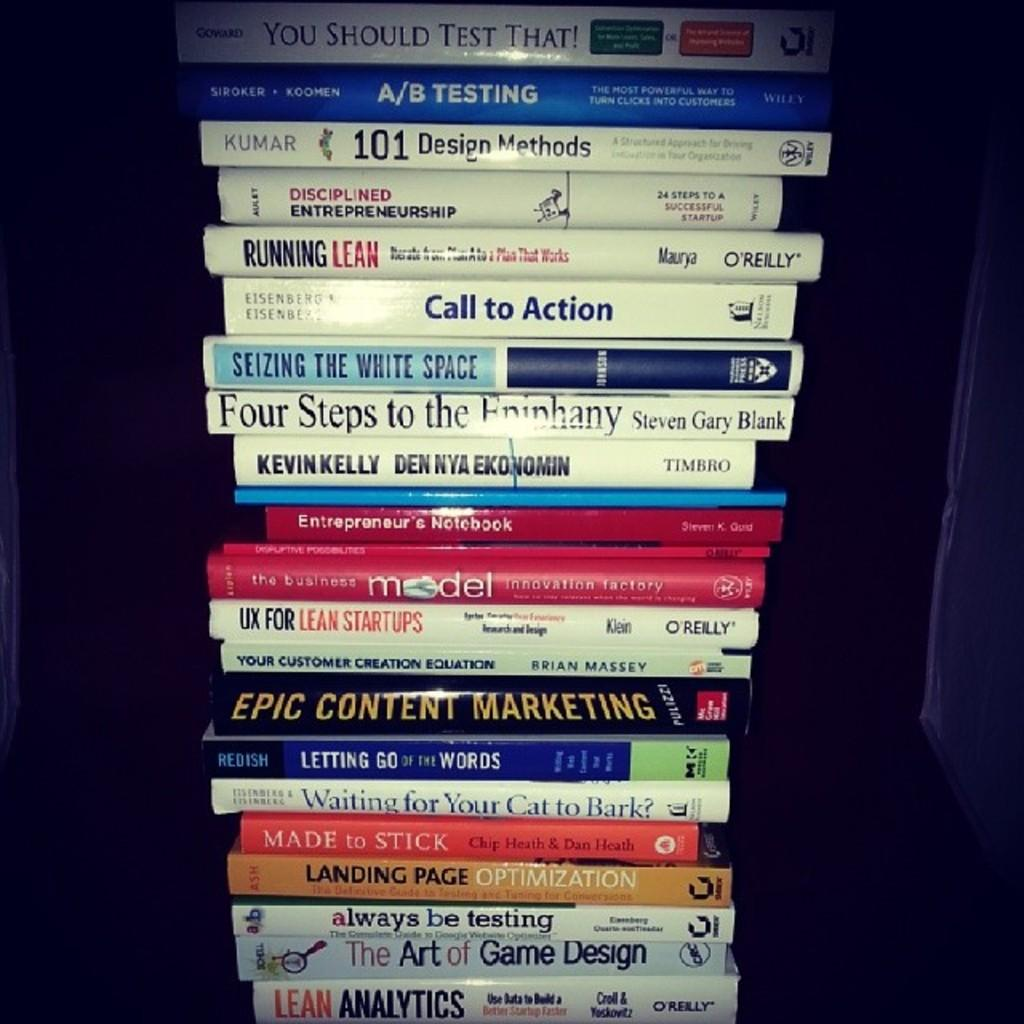Book: (219, 213, 832, 970), (178, 0, 832, 61), (181, 123, 834, 178), (210, 174, 787, 229), (194, 74, 827, 112), (254, 979, 738, 1022)
